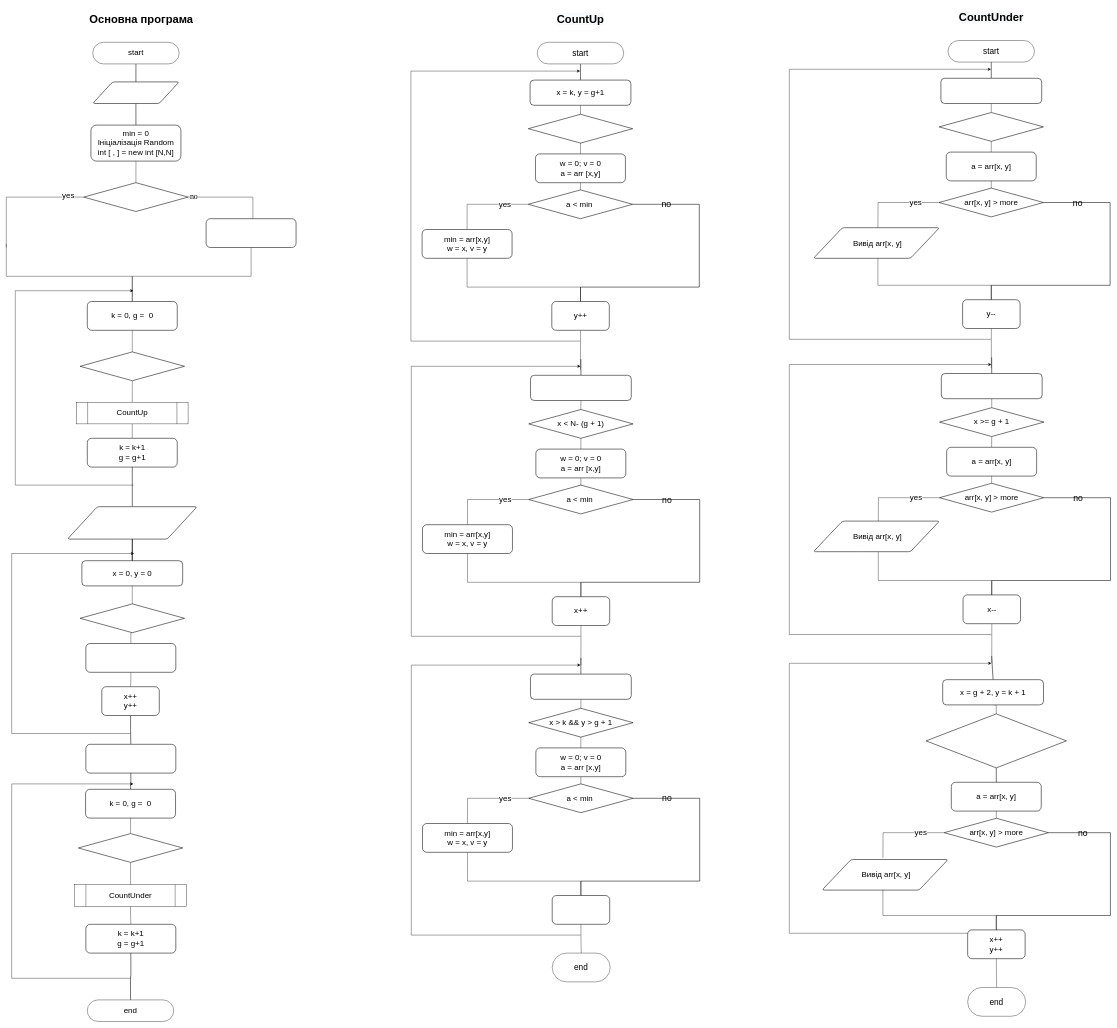
Some shapes in this 1117 by 1028 pixel diagram are drawn without their labels. Each missing label, with the centre of its shape:
"a = arr[x, y]; dsum = dsum + a;" goes at (x=130, y=657).
"dsum, more, halfsum є R" goes at (x=132, y=522).
"halfsum = dsum / N more = halfsum" goes at (x=130, y=758).
"k < (N-1) / 3.0" goes at (x=132, y=366).
"k <= (N-1) / 3.0" goes at (x=130, y=847).
"min = arr[0,1]" goes at (x=251, y=233).
"N <= 1" goes at (x=135, y=197).
"N, x, y, a є R" goes at (x=135, y=92).
"x = k + 1, y = N - (k + 1)" goes at (x=580, y=388).
"x = N - (g + 3) y = N - (k + 2)" goes at (x=580, y=686).
"x = N - (k + 1) y = N - (g + 2)" goes at (x=991, y=91).
"x = N - (k + 2), y = k" goes at (x=991, y=386).
"y < N && x < N" goes at (x=132, y=618).
"y < N - (g + 1) && x < N - (k + 1)" goes at (x=996, y=740).
"y < N-k" goes at (x=580, y=128).
"y >= k" goes at (x=991, y=126).
"y-- x--" goes at (x=581, y=909).
